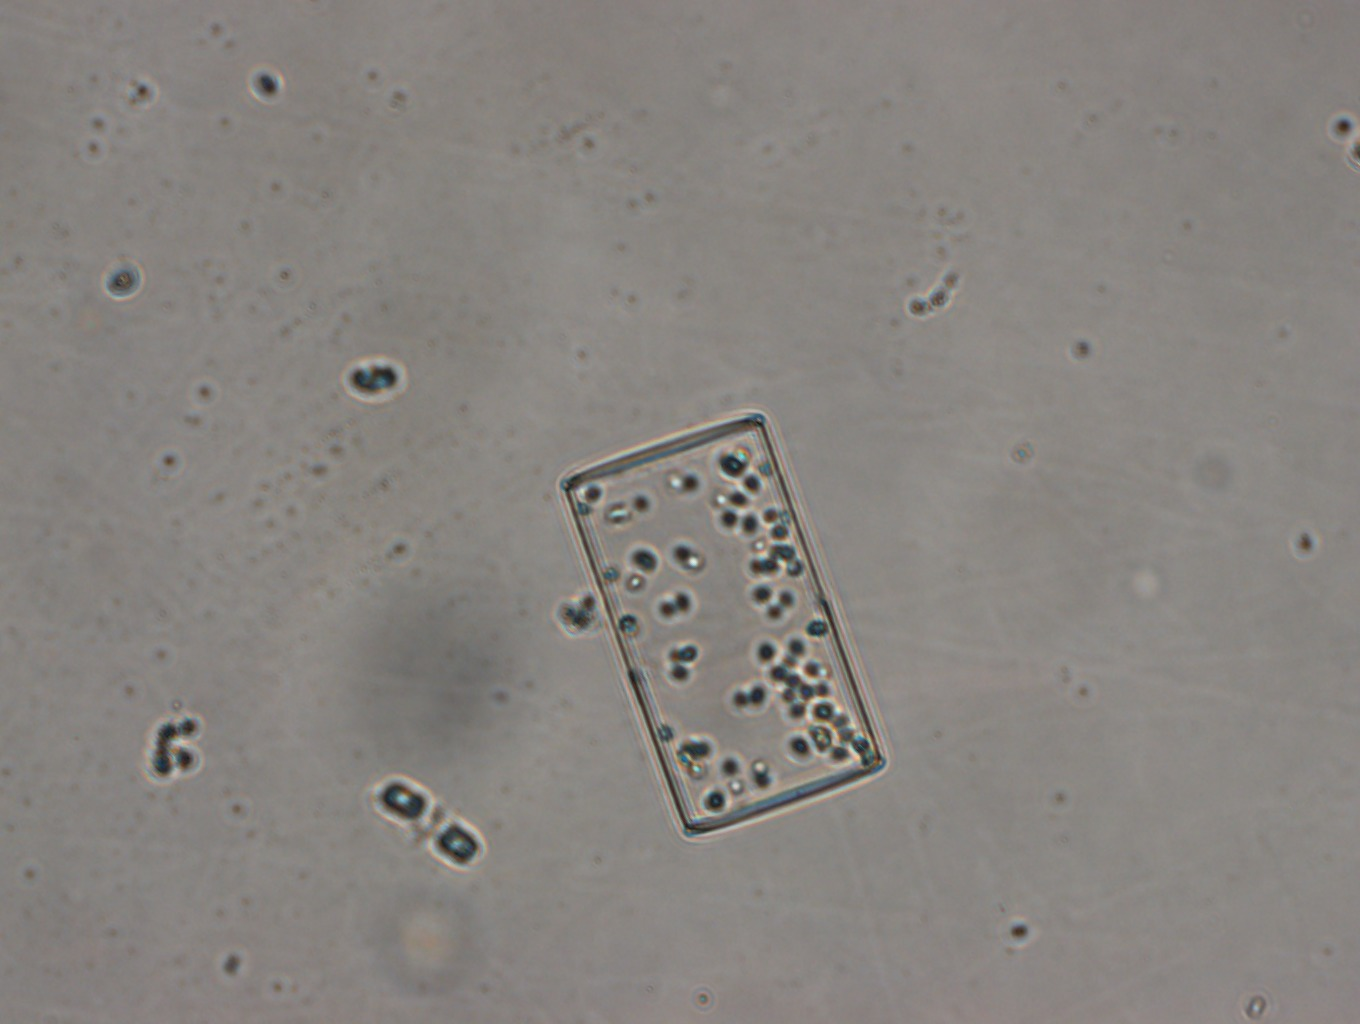guinardia flaccida: (559, 404, 890, 840)
